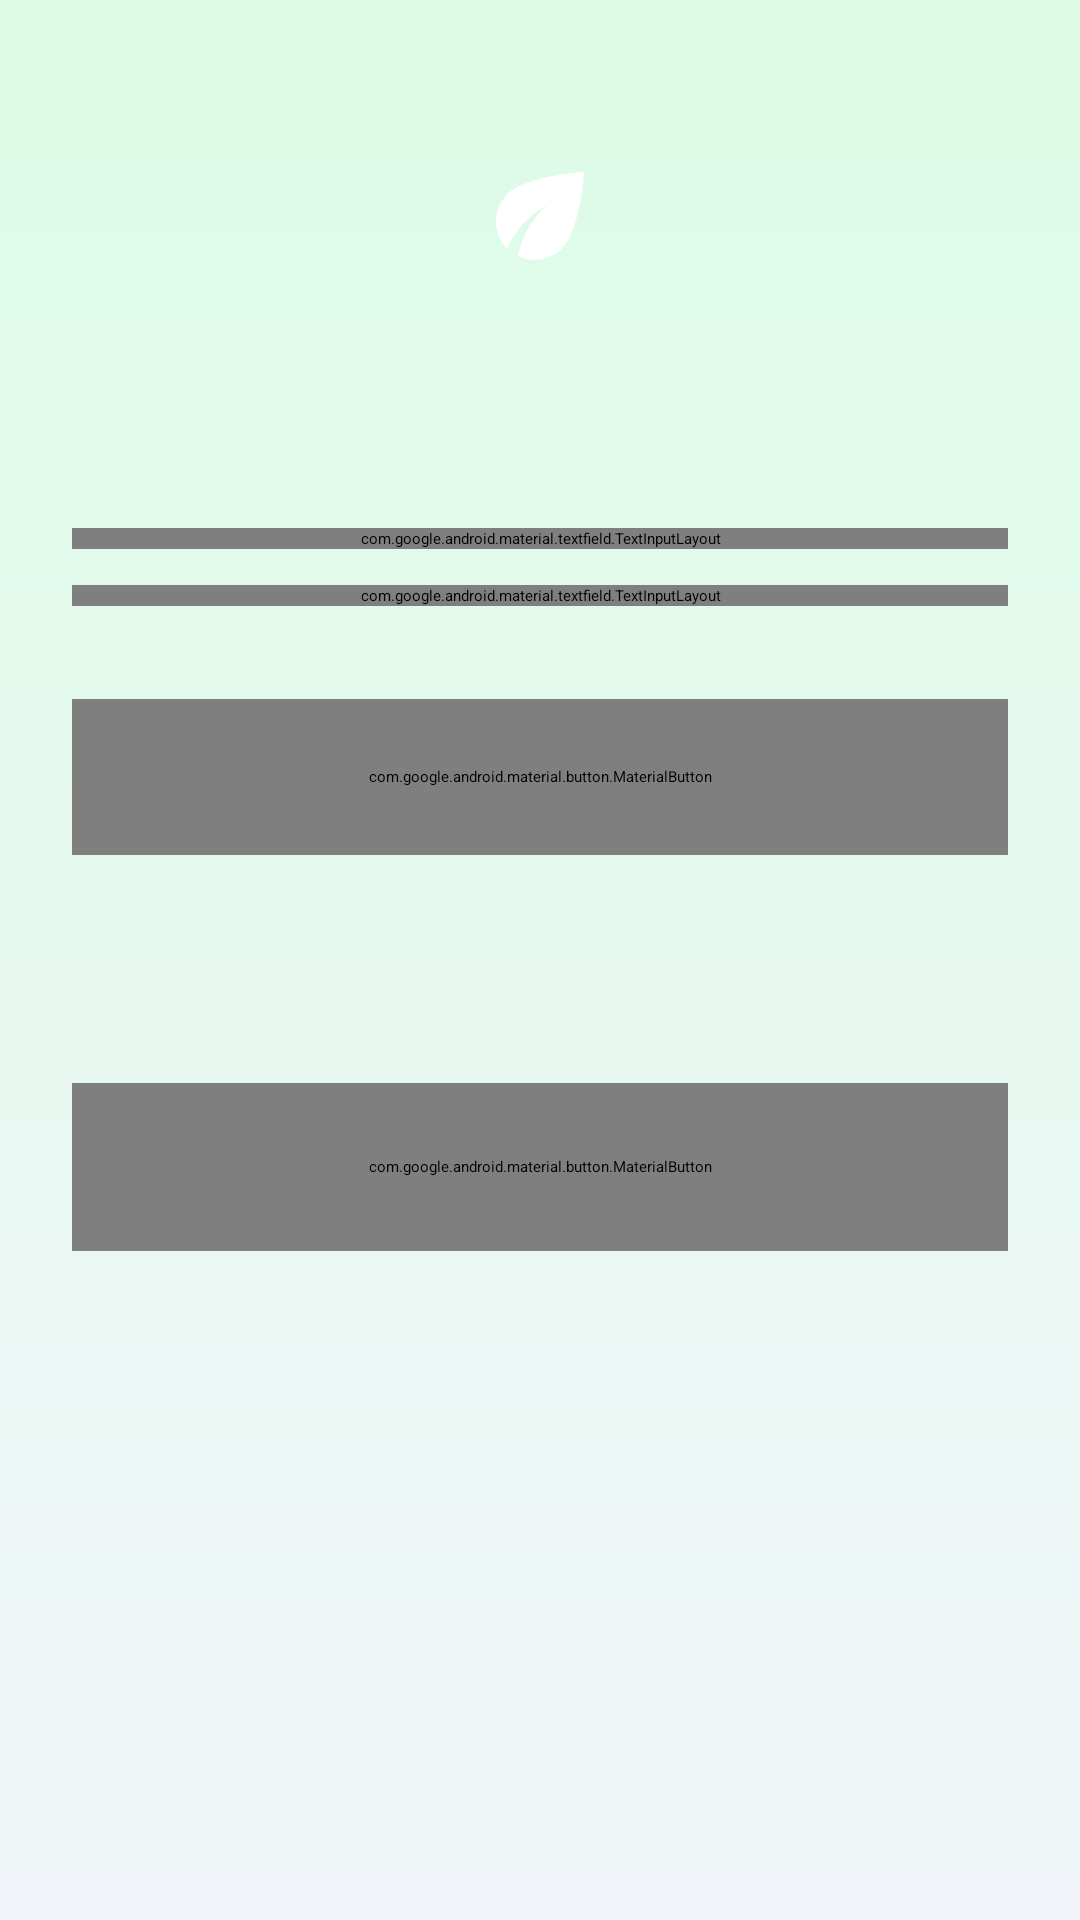

Icons on this 1080px×1920px Android screen, each with the point to tap as [x,y]:
eco: [540,216]
